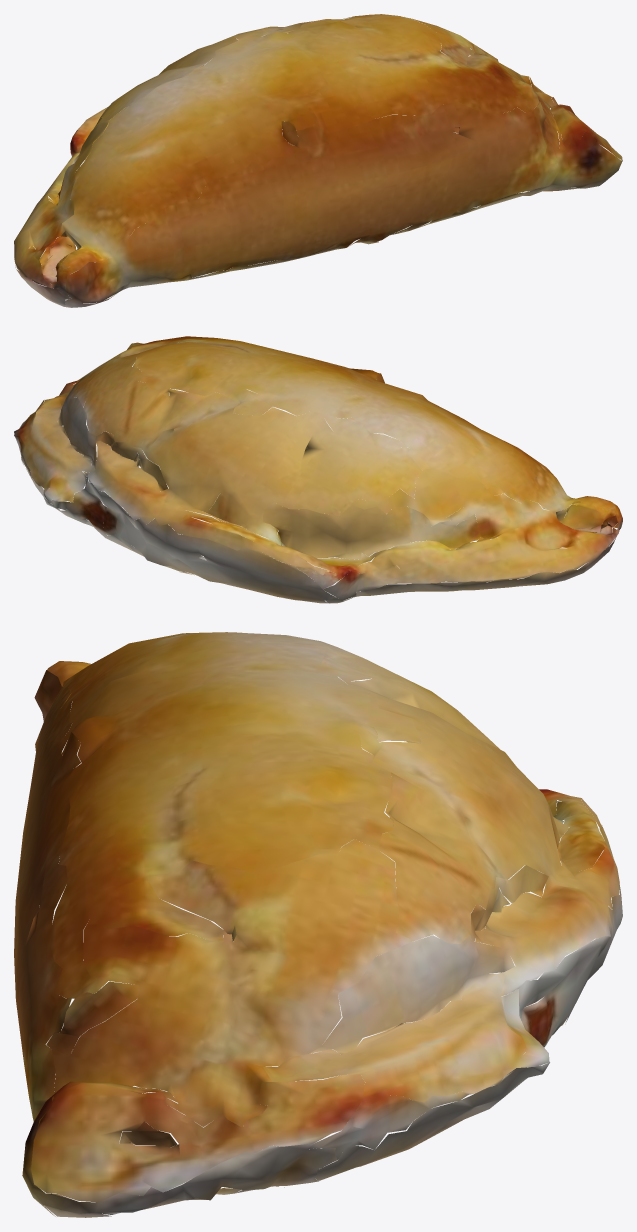
File: empanada.glb
3 renders of one model, top to bottom at view 1: azimuth 30°, elevation 25°; view 2: azimuth 150°, elevation 25°; view 3: azimuth 270°, elevation 25°, orthographic. The views are drawn at different scales.
Visible parts, largest first — view 1: empanada; view 2: empanada; view 3: empanada.
Part boxes in pixels (x1=…): empanada: x1=14, y1=14, x2=622, y2=307; empanada: x1=14, y1=336, x2=622, y2=603; empanada: x1=14, y1=632, x2=622, y2=1217.
Bounding box in the file's own units: 0.15 × 0.0399 × 0.0763.
Materials: 1 (1 with a texture image).
